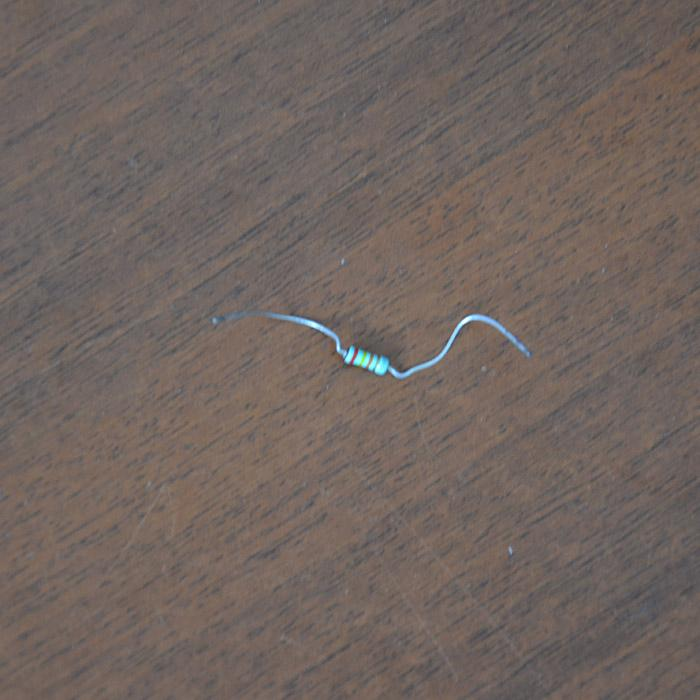resistor: (343, 344, 390, 374)
